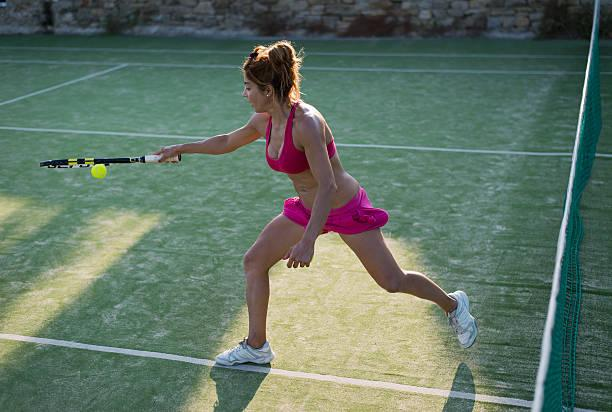ball_tennis: (91, 163, 108, 180)
